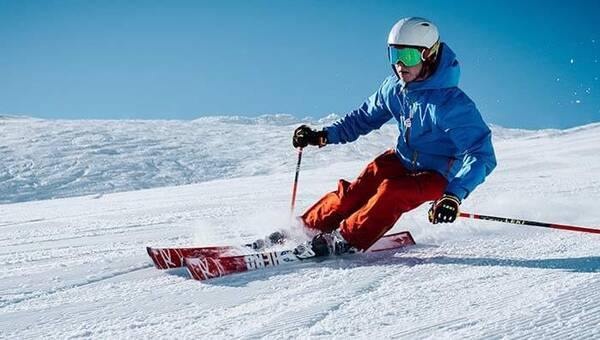skier: (146, 13, 600, 290)
